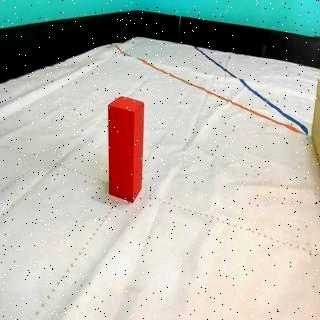redbox: (108, 96, 143, 202)
